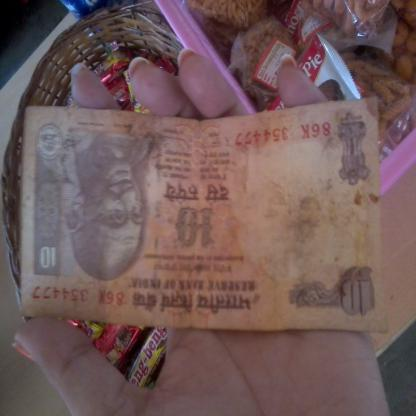Old10Front: (21, 94, 390, 335)
